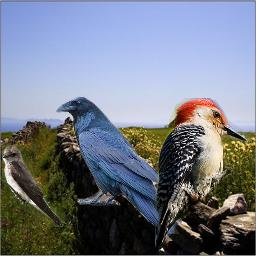Crow: (54, 95, 182, 234)
Swallow: (2, 145, 64, 227)
Woodpecker: (155, 98, 252, 249)
